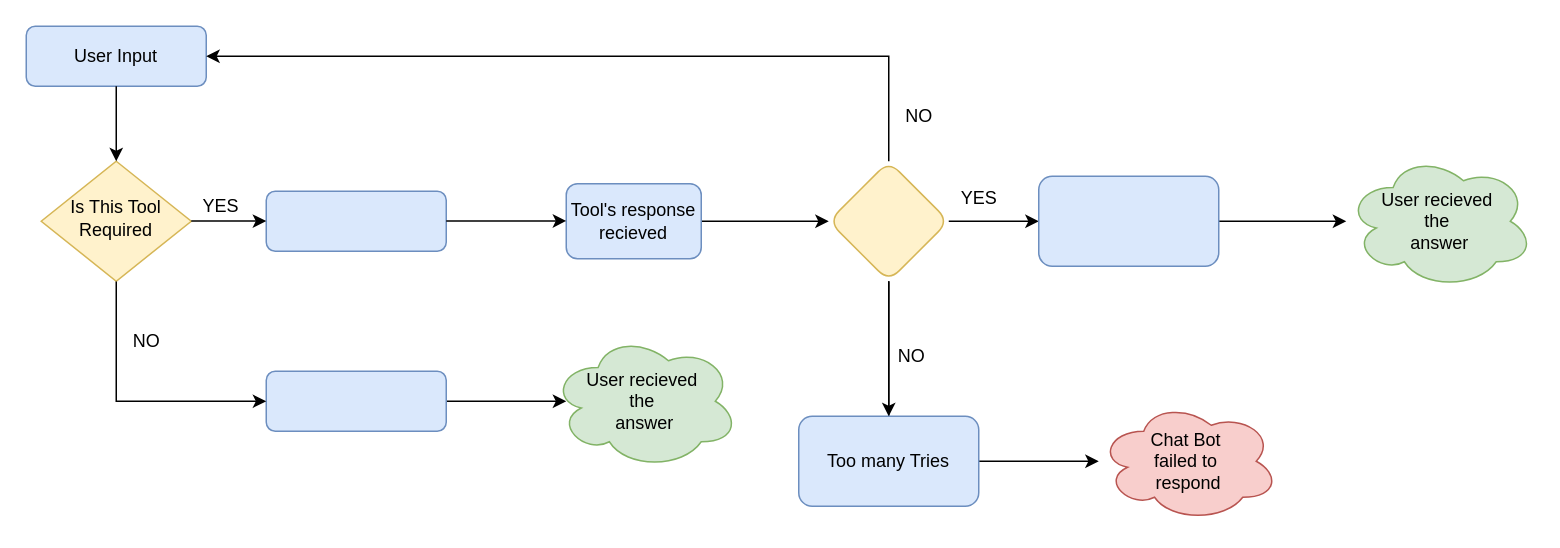
Some shapes in this 1560 by 548 pixel diagram are drawn without their labels. The centre of each missing label's shape, as x and y in pixels:
"LLM answers using the tool's response" belongs at [1128,220].
"LLM Generating Answer" belongs at [355,400].
"was the response usefull" belongs at [888,220].
"Wikipedia Tool" belongs at [355,220].
